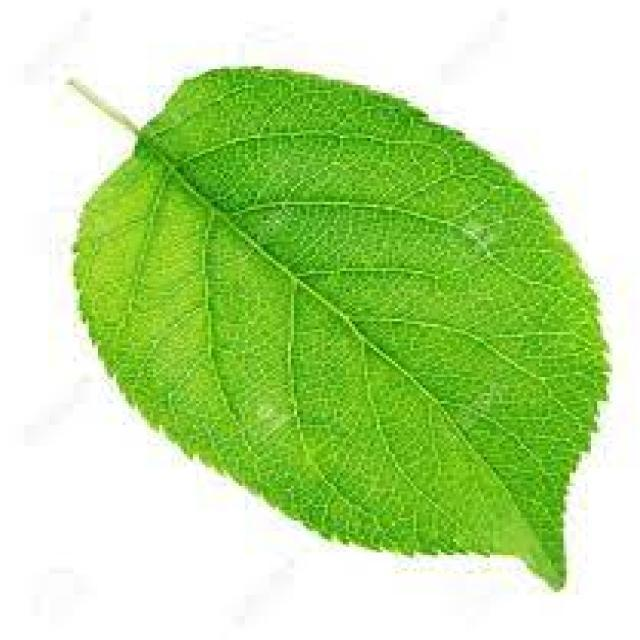leaf: (66, 64, 613, 590)
